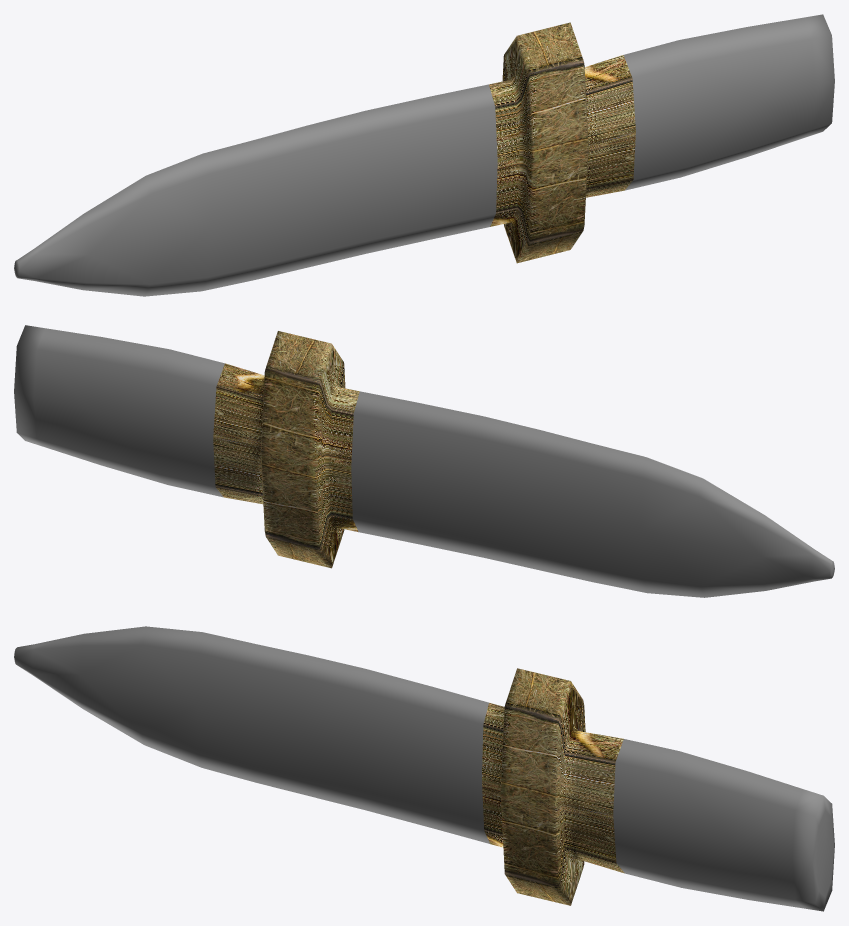
File: GreatSword2.FBX
The picture shows the model from 3 angles, top to bottom: view 1: azimuth 30°, elevation 25°; view 2: azimuth 150°, elevation 25°; view 3: azimuth 330°, elevation 25°; orthographic projection.
Parts seen in each view (by area): view 1: Box001; view 2: Box001; view 3: Box001.
Part boxes in pixels (left/top/right/bottom): Box001: left=14, top=14, right=834, bottom=296; Box001: left=14, top=325, right=834, bottom=597; Box001: left=14, top=626, right=834, bottom=911.
Size of the model in its own units: 126 by 9.13 by 33.56.
Materials: 2 (2 with a texture image).
